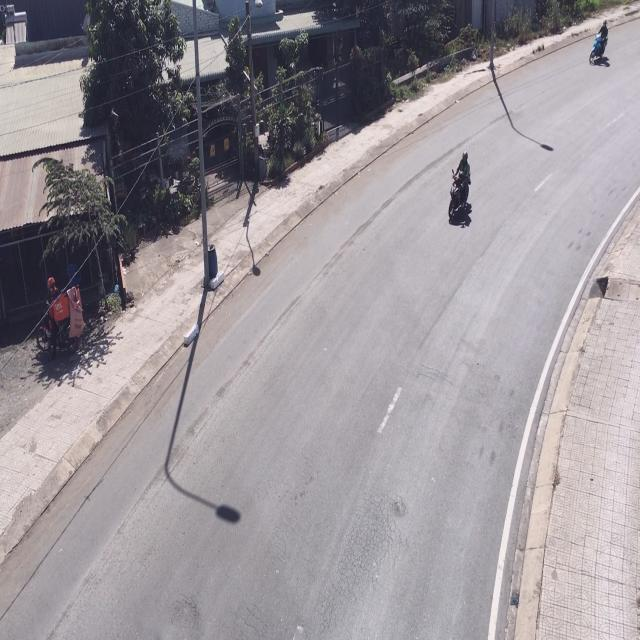motorbike: (446, 152, 470, 228), (588, 18, 609, 69)
